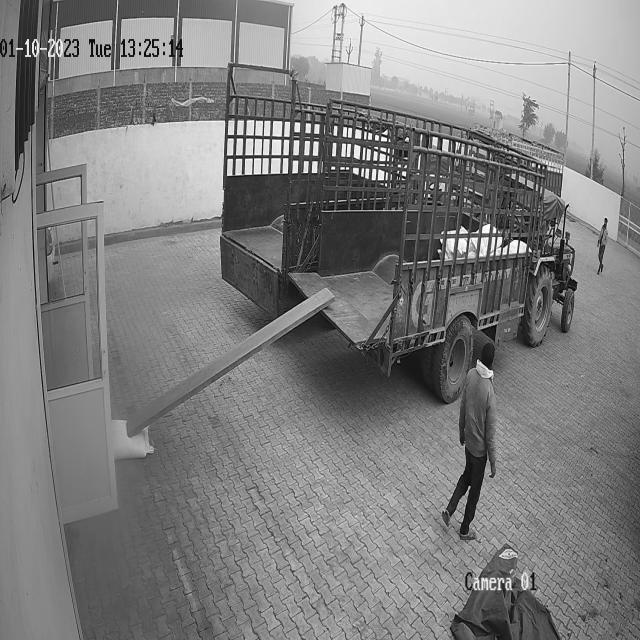sack: (112, 419, 153, 461)
